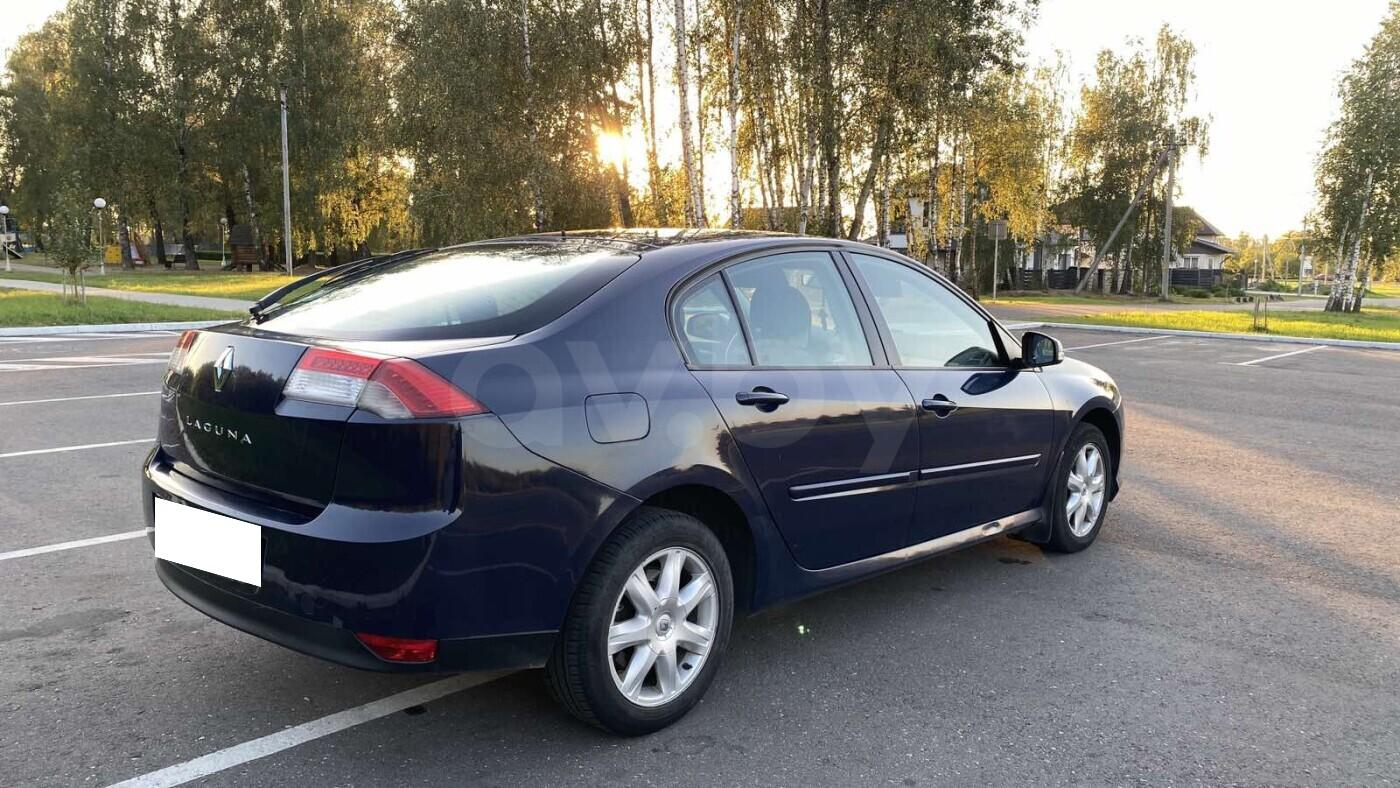Laguna_2007-2011: (141, 230, 1126, 735)
